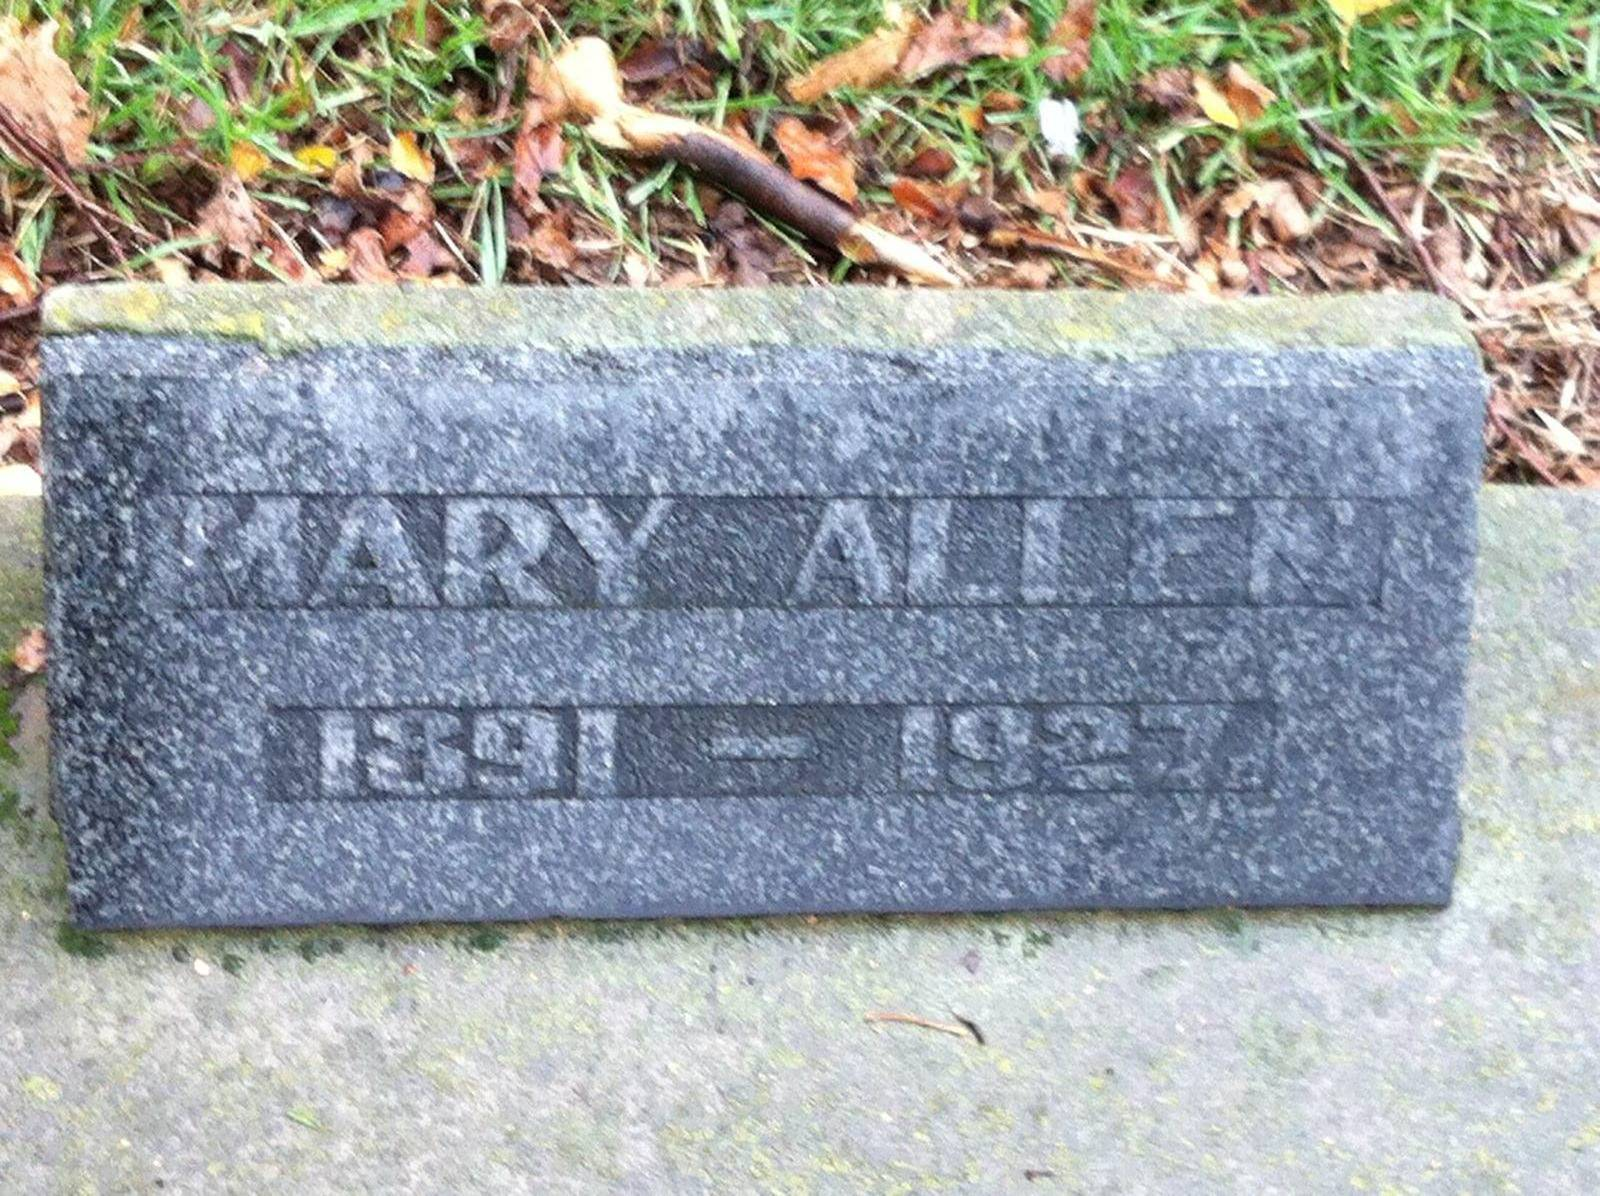flat: (39, 270, 1484, 927)
